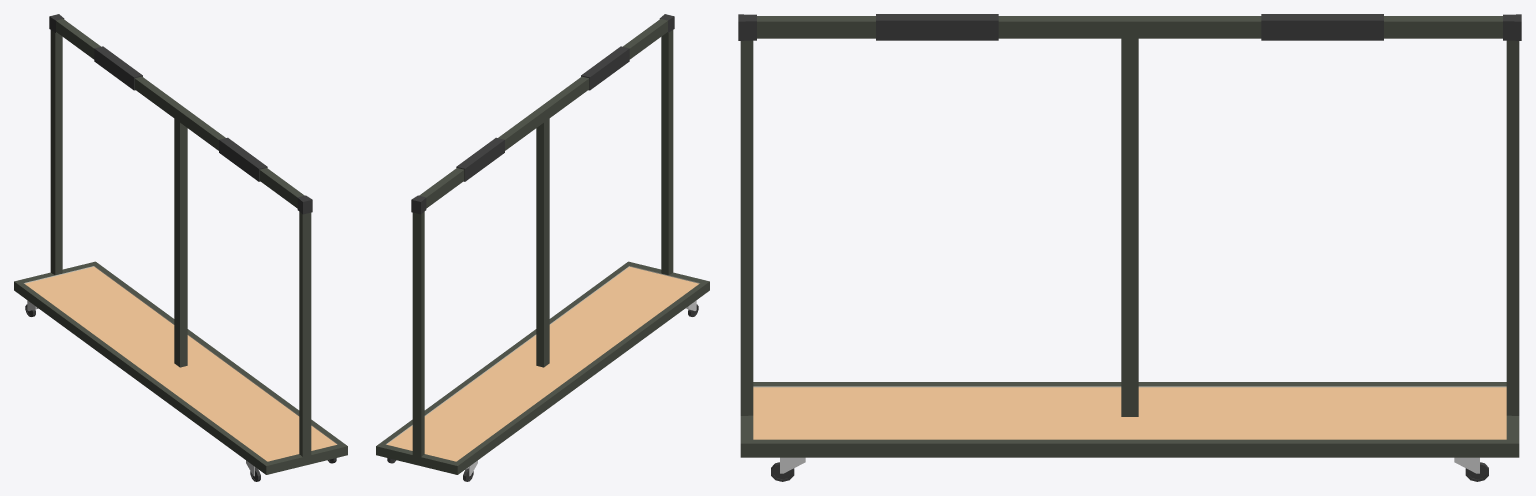
File: KarGroteMat.fbx
3 renders of one model, left to right at view 1: azimuth 30°, elevation 25°; view 2: azimuth 150°, elevation 25°; view 3: azimuth 270°, elevation 25°, orthographic. The views are drawn at different scales.
Visible parts, largest first — view 1: KarGroteMat; view 2: KarGroteMat; view 3: KarGroteMat.
Part boxes in pixels (left/top/right/bottom): KarGroteMat: left=14, top=14, right=347, bottom=481; KarGroteMat: left=376, top=14, right=709, bottom=481; KarGroteMat: left=738, top=14, right=1521, bottom=481.
Size of the model in its own units: 0.764 by 2.52 by 4.11.
